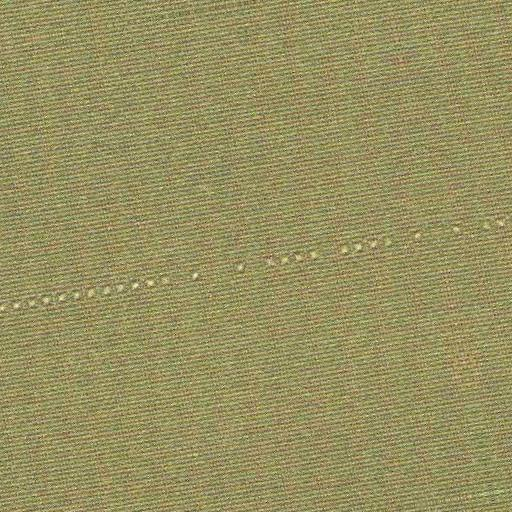slub: (2, 212, 508, 328)
